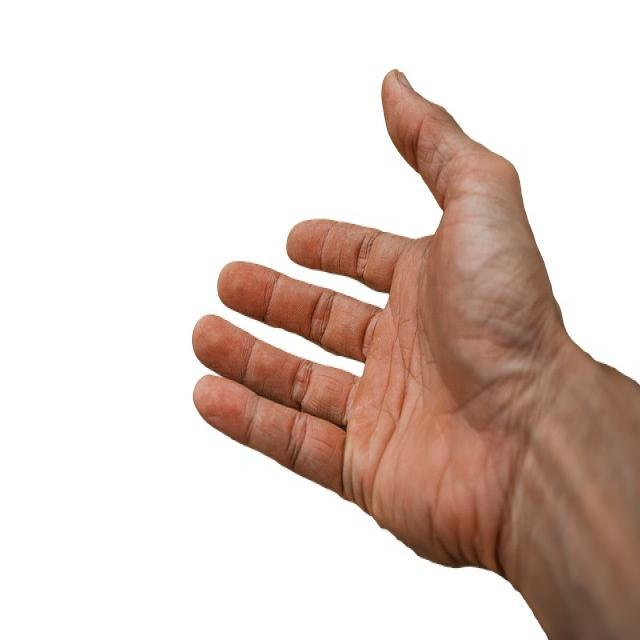no-gloves: (189, 68, 556, 566)
